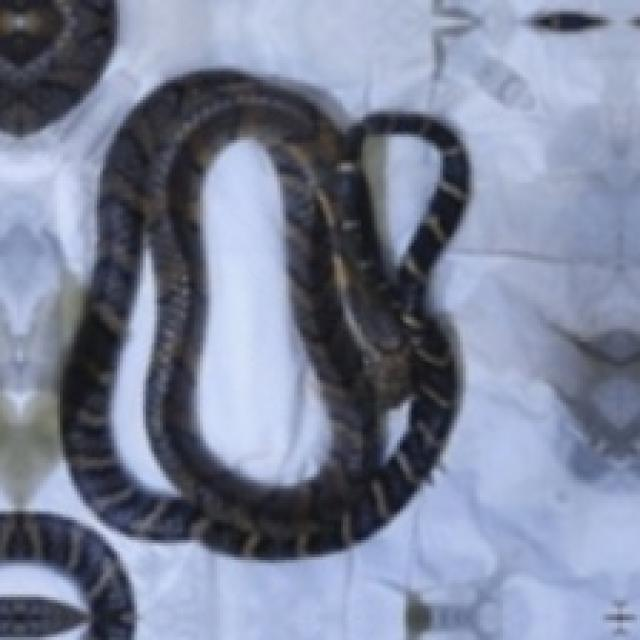king cobra: (60, 71, 466, 557)
